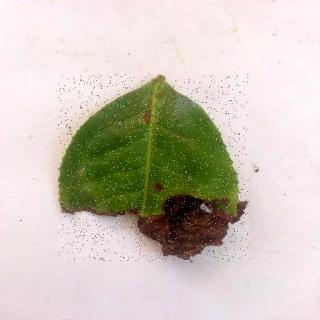Brown Blight: (59, 76, 251, 263)
